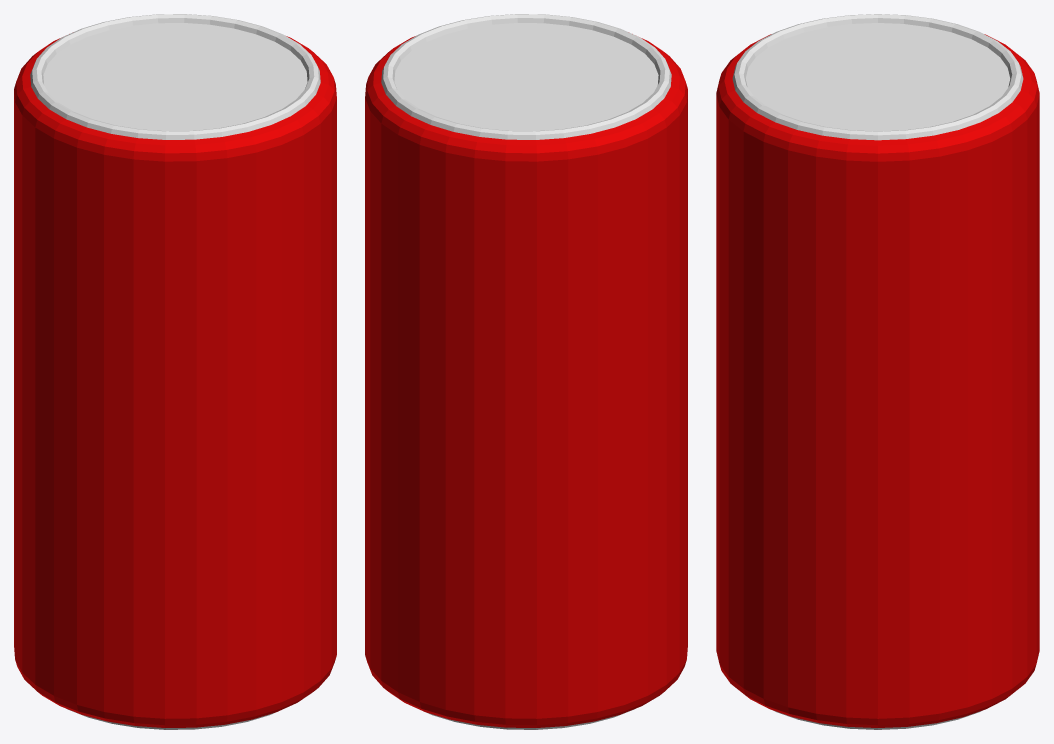
File: Can.fbx
The picture shows the model from 3 angles, left to right: view 1: azimuth 30°, elevation 25°; view 2: azimuth 150°, elevation 25°; view 3: azimuth 270°, elevation 25°; orthographic projection.
Visible parts, largest first — view 1: Cylinder; view 2: Cylinder; view 3: Cylinder.
Boxes of the visible parts, <box> form: Cylinder: <box>14,14,336,729</box>; Cylinder: <box>365,14,687,729</box>; Cylinder: <box>716,14,1039,729</box>.
Bounding box in the file's own units: 100 × 100 × 204.
